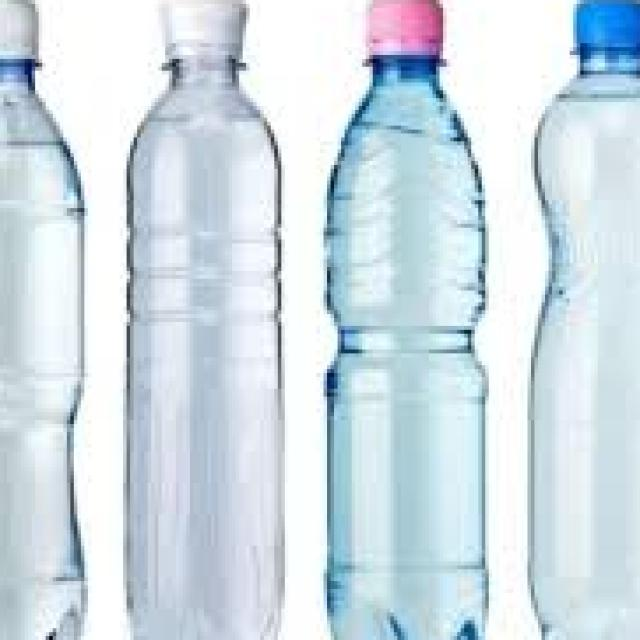organic: (314, 0, 505, 637), (107, 0, 291, 633), (523, 2, 638, 635)
